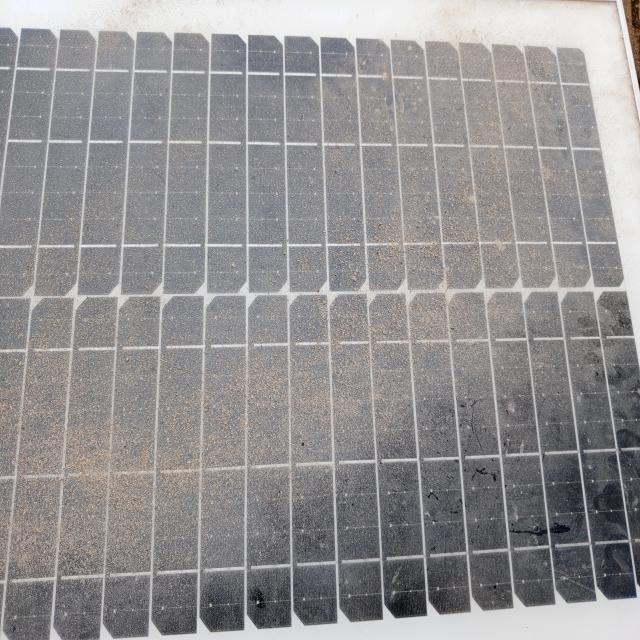Surface Contaminant: (11, 29, 604, 621)
